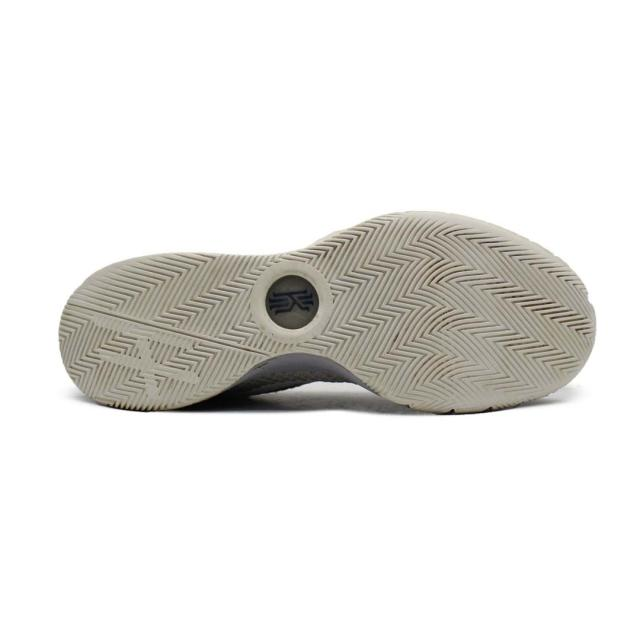outersole: (58, 211, 595, 415)
